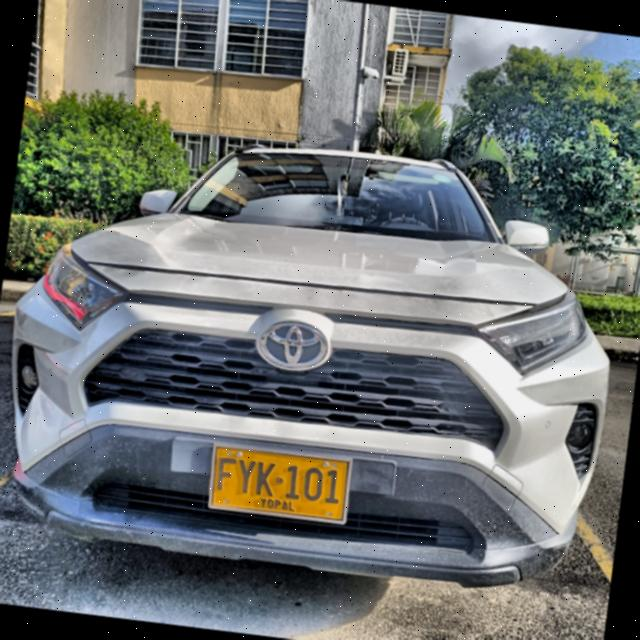plate: (213, 448, 347, 519)
